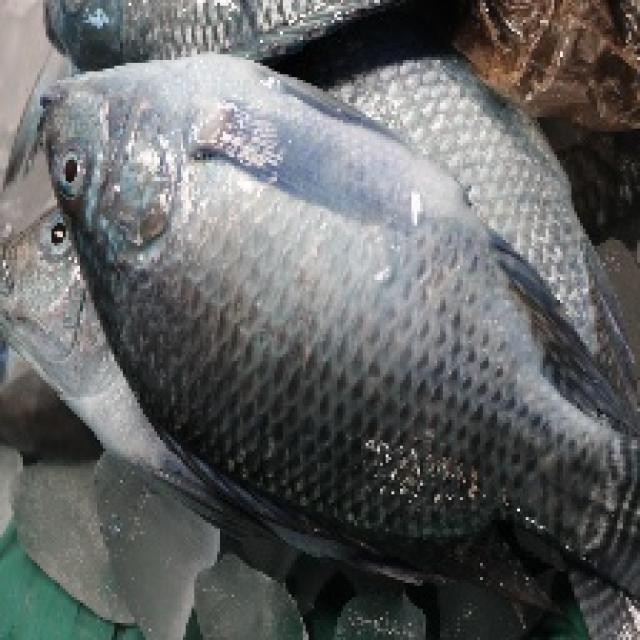Fresh: (146, 62, 519, 533), (47, 132, 98, 202)
